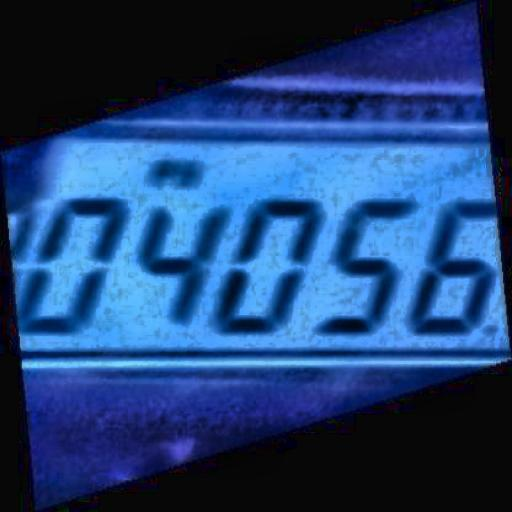DISPLAY_REGION: (2, 114, 509, 376)
SERIAL_REGION: (16, 195, 499, 343)
